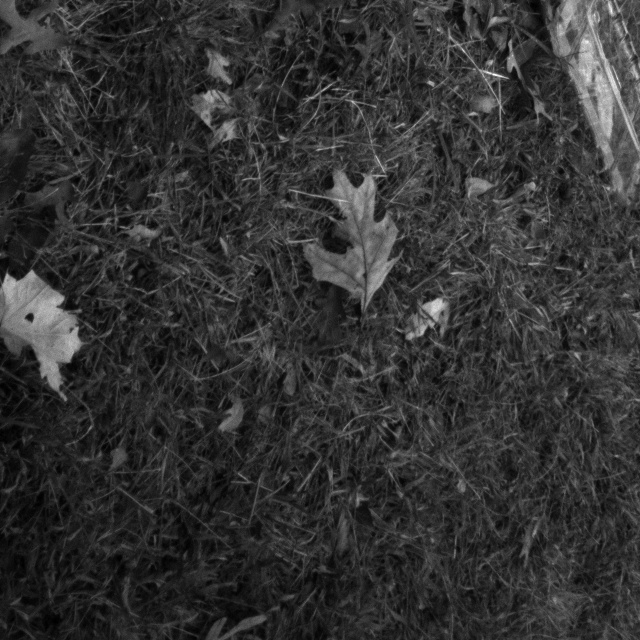container: (518, 0, 640, 214)
